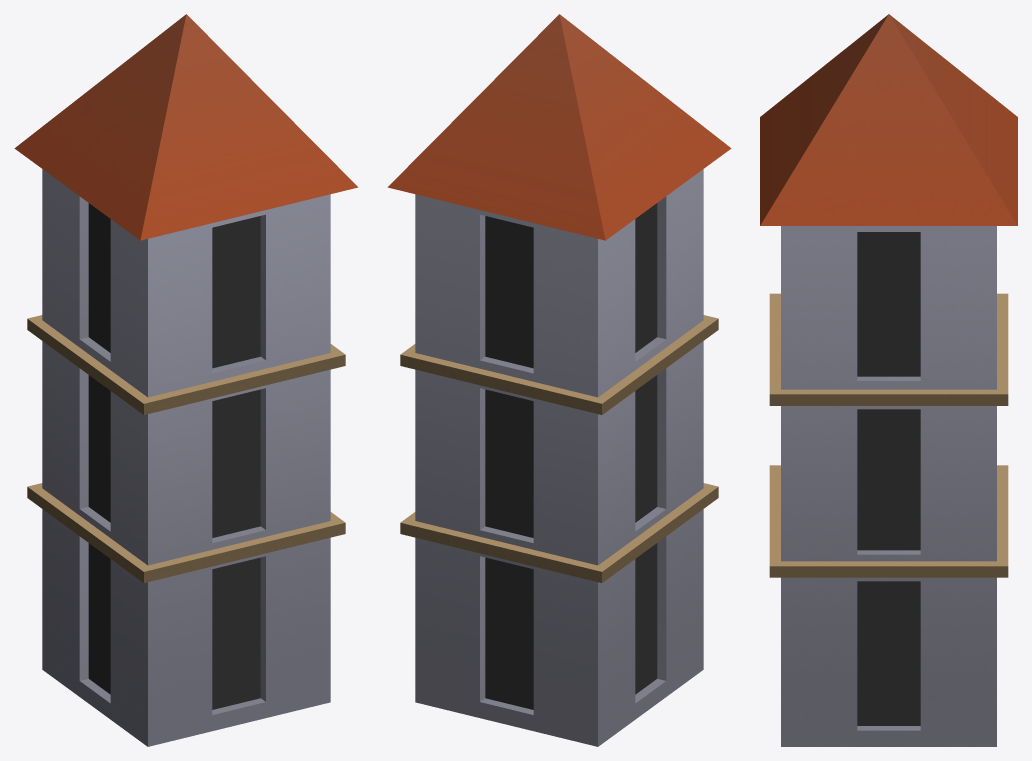
File: archerTower_tex_001.fbx
The picture shows the model from 3 angles, left to right: view 1: azimuth 30°, elevation 25°; view 2: azimuth 150°, elevation 25°; view 3: azimuth 270°, elevation 25°; orthographic projection. The views are drawn at different scales.
Visible parts, largest first — view 1: archer_tower; view 2: archer_tower; view 3: archer_tower.
Boxes of the visible parts, left/top/right/bottom form: archer_tower: left=14, top=14, right=358, bottom=746; archer_tower: left=387, top=14, right=731, bottom=746; archer_tower: left=760, top=14, right=1017, bottom=746.
Size of the model in its own units: 44.08 by 130 by 44.08.
